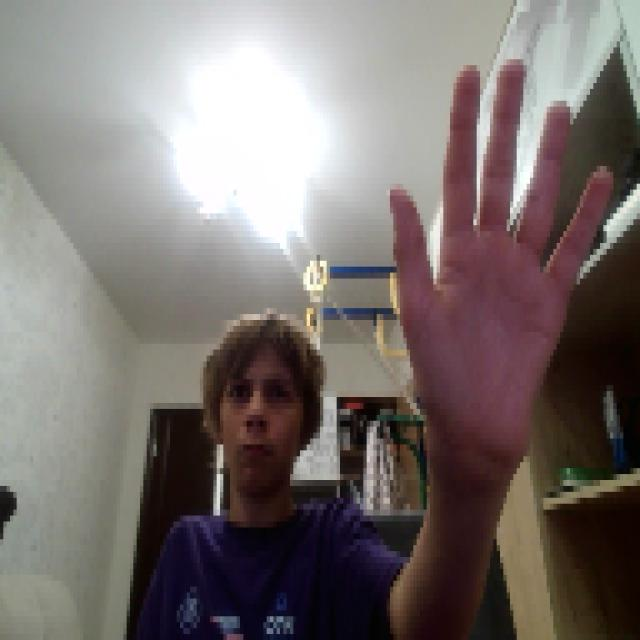hand: (384, 54, 614, 462)
